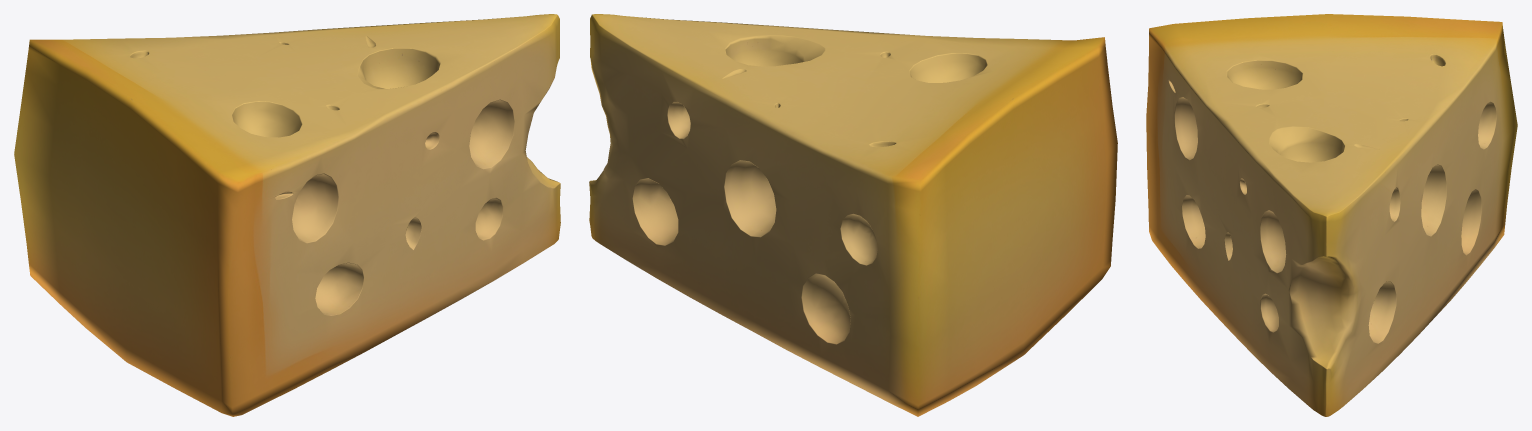
File: cheese.glb
The picture shows the model from 3 angles, left to right: view 1: azimuth 30°, elevation 25°; view 2: azimuth 150°, elevation 25°; view 3: azimuth 270°, elevation 25°; orthographic projection. The views are drawn at different scales.
Visible parts, largest first — view 1: tripo_node_7d075146-bc67-4861-b64c-36e075b5dd24; view 2: tripo_node_7d075146-bc67-4861-b64c-36e075b5dd24; view 3: tripo_node_7d075146-bc67-4861-b64c-36e075b5dd24.
Part boxes in pixels (<box>): tripo_node_7d075146-bc67-4861-b64c-36e075b5dd24: <box>14,14,560,416</box>; tripo_node_7d075146-bc67-4861-b64c-36e075b5dd24: <box>589,14,1117,416</box>; tripo_node_7d075146-bc67-4861-b64c-36e075b5dd24: <box>1146,14,1517,416</box>.
Size of the model in its own units: 0.9995 by 0.563 by 0.8179.
Materials: 1 (1 with a texture image).
